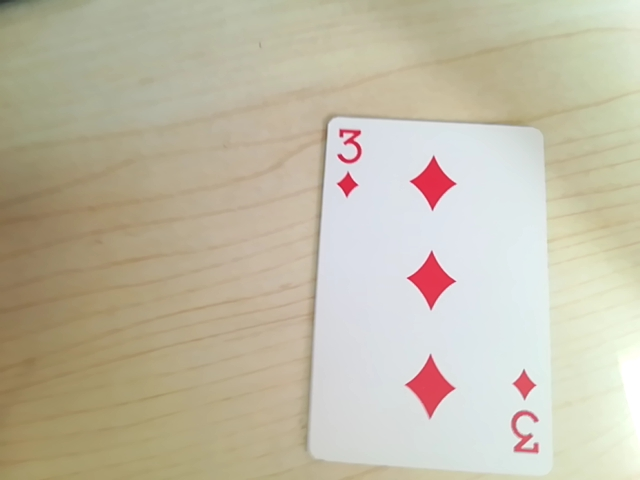fk 3: (506, 374, 542, 463), (327, 120, 366, 182)
